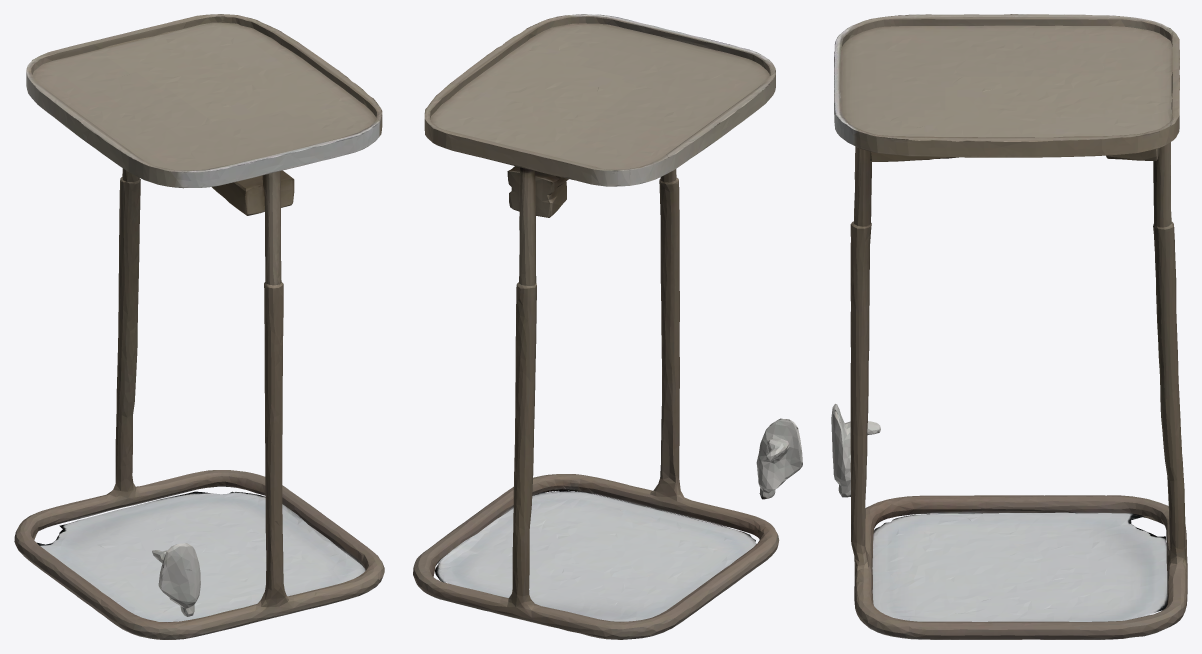
Rendered from ast_8926f9413f29.glb.
3 views of the same model, side by side, from view 1: azimuth 30°, elevation 25°; view 2: azimuth 150°, elevation 25°; view 3: azimuth 270°, elevation 25° (orthographic). The views are drawn at different scales.
Parts seen in each view (by area): view 1: geometry_0; view 2: geometry_0; view 3: geometry_0.
Boxes of the visible parts, x1=… form: geometry_0: x1=14, y1=14, x2=384, y2=639; geometry_0: x1=413, y1=14, x2=802, y2=639; geometry_0: x1=831, y1=14, x2=1187, y2=639.
Bounding box in the file's own units: 0.5784 × 1 × 0.6474.
Materials: 1 (1 with a texture image).
